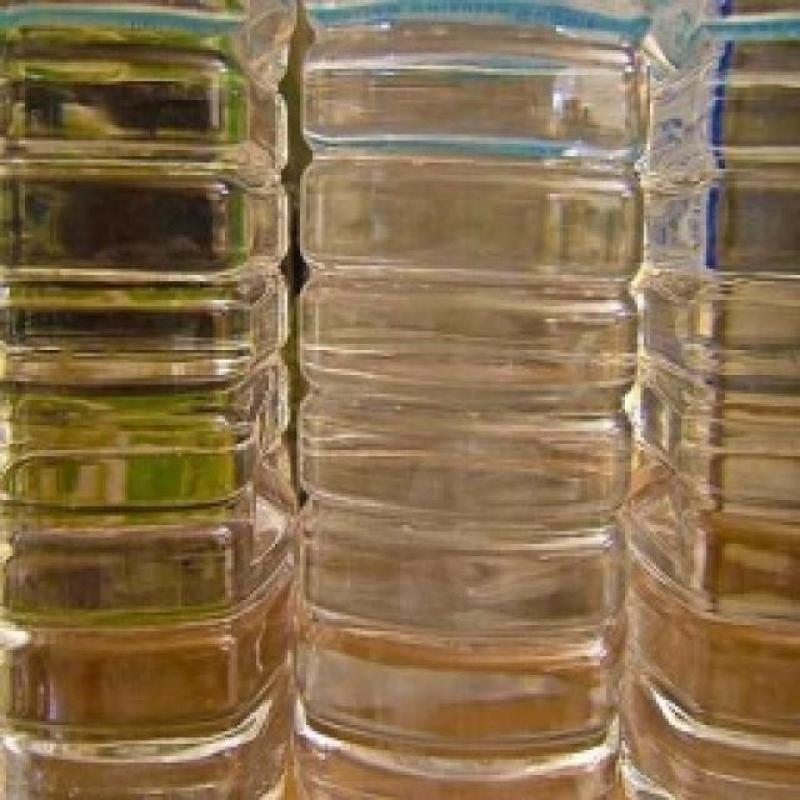botella: (300, 0, 644, 800), (0, 0, 302, 800), (646, 0, 800, 800)
